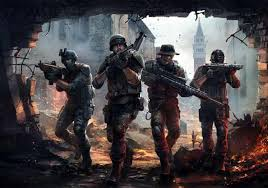gun: (144, 68, 224, 114), (103, 42, 134, 72), (34, 58, 67, 85), (202, 62, 242, 77)
